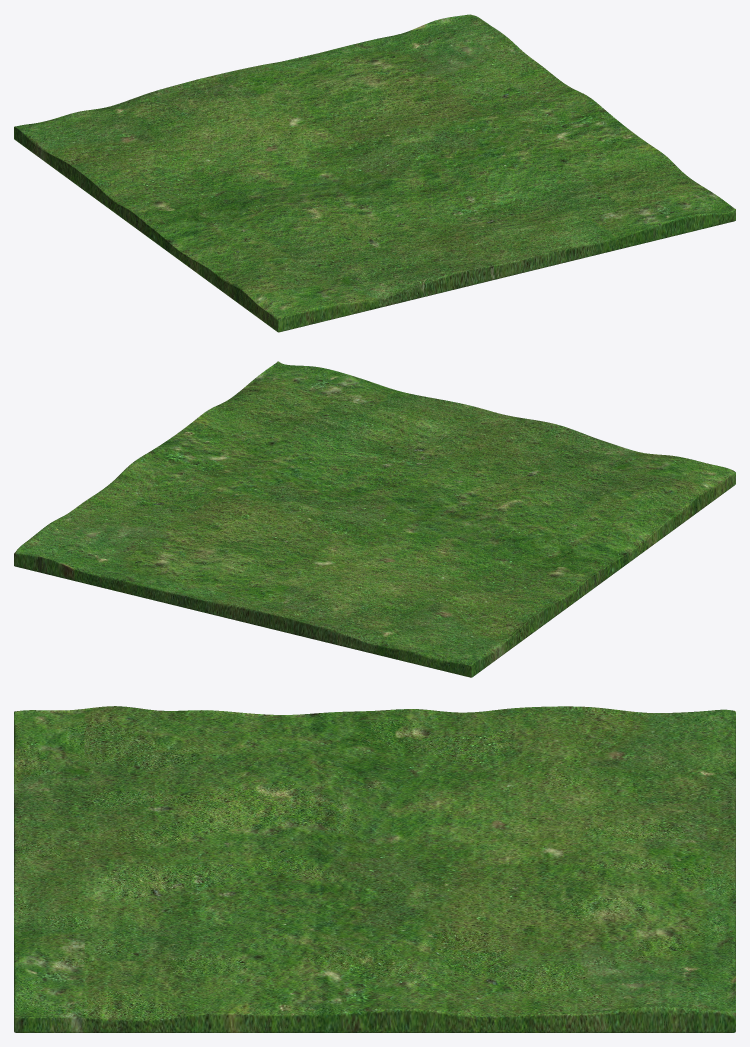
The model's file is Grass_blender.obj.
The picture shows the model from 3 angles, top to bottom: view 1: azimuth 30°, elevation 25°; view 2: azimuth 150°, elevation 25°; view 3: azimuth 270°, elevation 25°; orthographic projection. The views are drawn at different scales.
Parts seen in each view (by area): view 1: 10450_Rectangular_Grass_Patch_v1_iterations-2; view 2: 10450_Rectangular_Grass_Patch_v1_iterations-2; view 3: 10450_Rectangular_Grass_Patch_v1_iterations-2.
Boxes of the visible parts, x1=… form: 10450_Rectangular_Grass_Patch_v1_iterations-2: x1=14, y1=14, x2=735, y2=332; 10450_Rectangular_Grass_Patch_v1_iterations-2: x1=14, y1=361, x2=735, y2=677; 10450_Rectangular_Grass_Patch_v1_iterations-2: x1=14, y1=706, x2=735, y2=1032.
Size of the model in its own units: 300 by 11.78 by 300.
